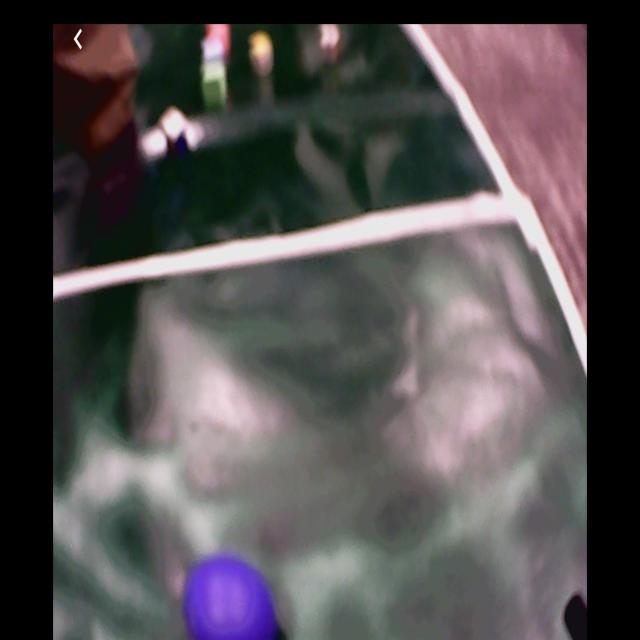ball: (186, 551, 272, 640)
